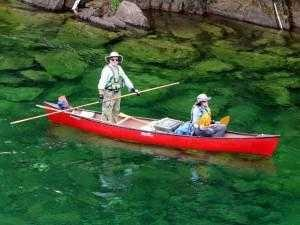kayak: (42, 98, 279, 158)
